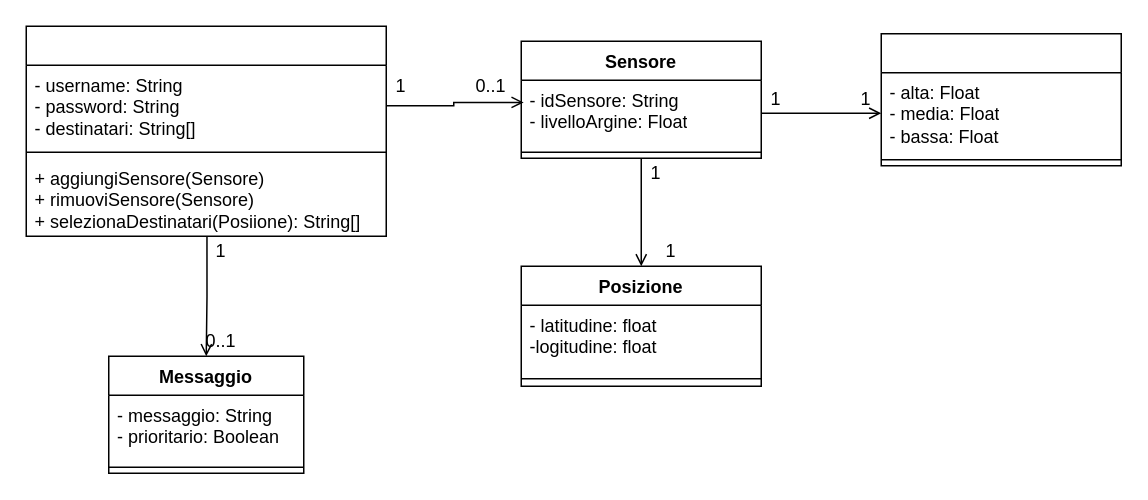
Some shapes in this 1148 by 500 pixel diagram are drawn without their labels. Here are the shapes that lost their labels. From the top down, the box of each, then its label:
(880, 32, 1121, 166): Soglie
(25, 25, 386, 236): EnteLocale
